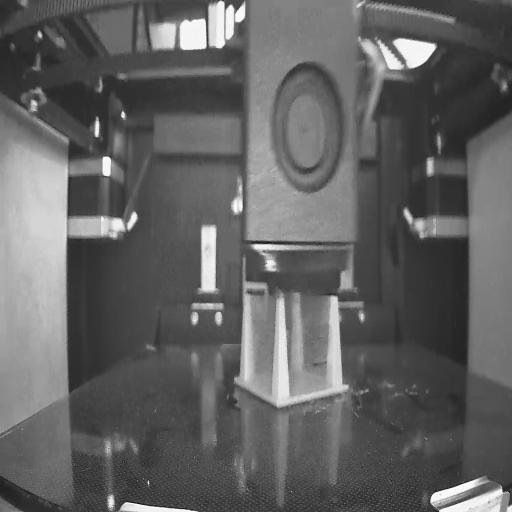stringing: (283, 290, 335, 402), (244, 290, 274, 404)
